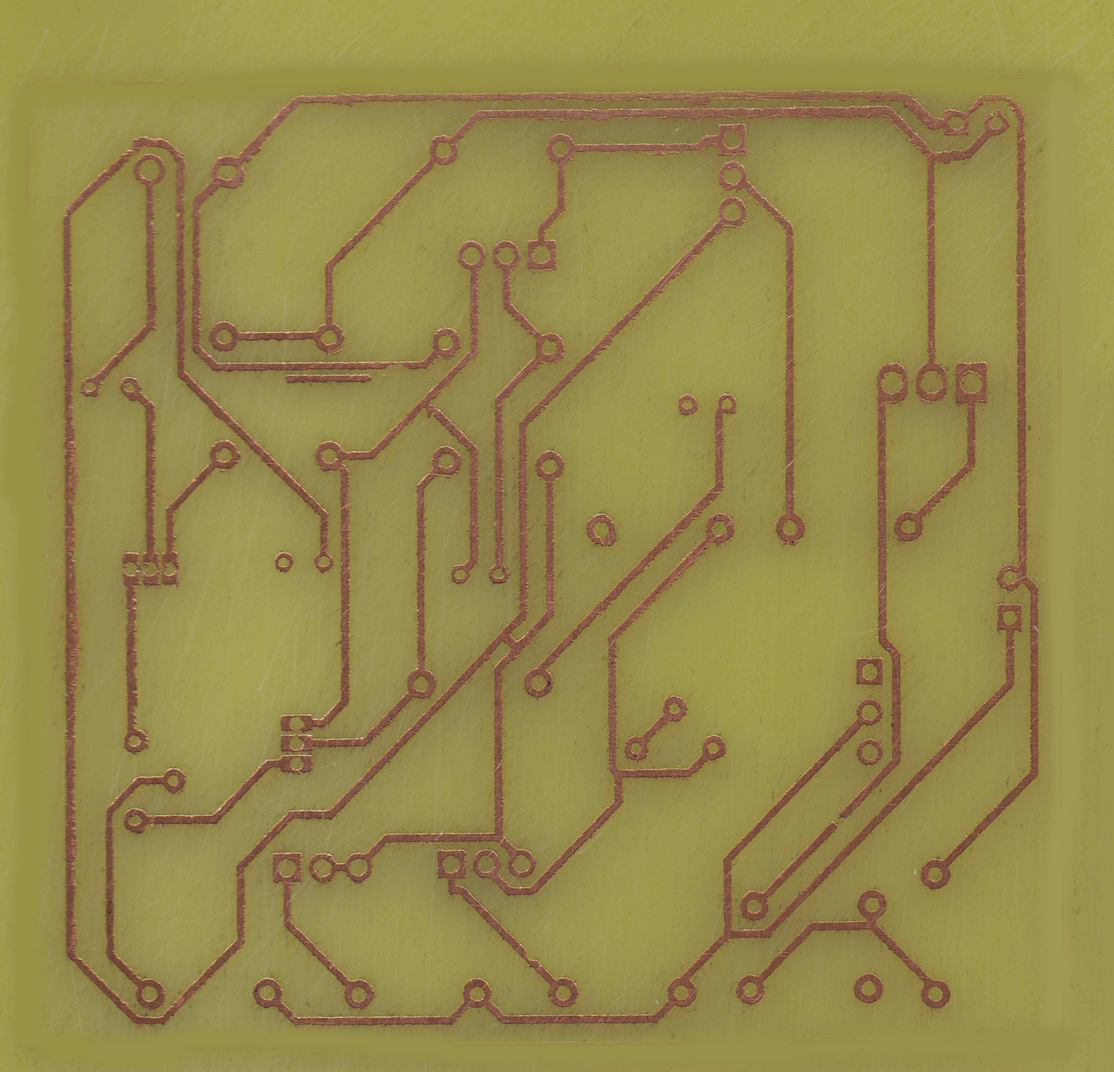missing_hole: (982, 108, 1010, 137)
mouse_bite: (516, 945, 540, 969), (383, 359, 411, 373)
open_circuit: (829, 810, 848, 829)
short: (496, 628, 525, 651)
spur: (687, 90, 713, 107)
spurious_copper: (285, 372, 373, 384)
